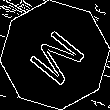M_SE: (21, 21, 89, 89)
